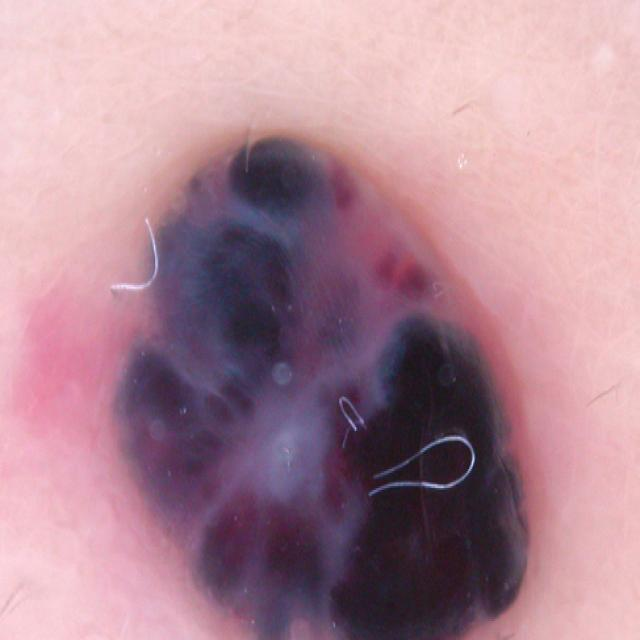Vascular Lesions: (80, 57, 580, 640)
